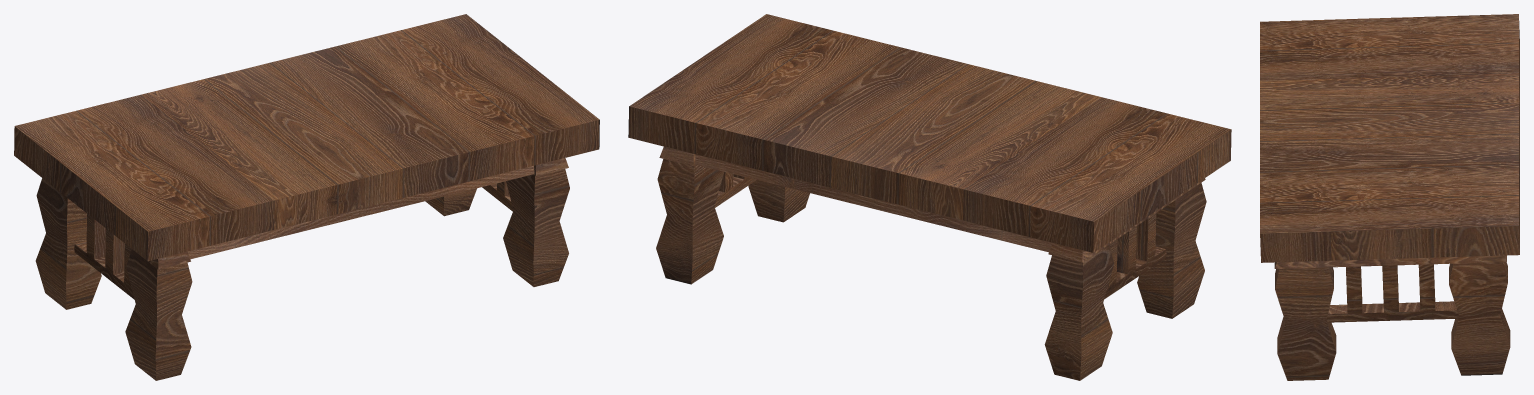
File: tavolo_corto.gltf
3 views of the same model, side by side, from view 1: azimuth 30°, elevation 25°; view 2: azimuth 150°, elevation 25°; view 3: azimuth 270°, elevation 25° (orthographic). The views are drawn at different scales.
Visible parts, largest first — view 1: Box782_temn vert_0; view 2: Box782_temn vert_0; view 3: Box782_temn vert_0.
Part boxes in pixels (box(x1,y1,x2,y2)): Box782_temn vert_0: box(14, 14, 599, 380); Box782_temn vert_0: box(628, 14, 1231, 380); Box782_temn vert_0: box(1260, 14, 1519, 380).
Size of the model in its own units: 37.74 by 13.95 by 19.4.
